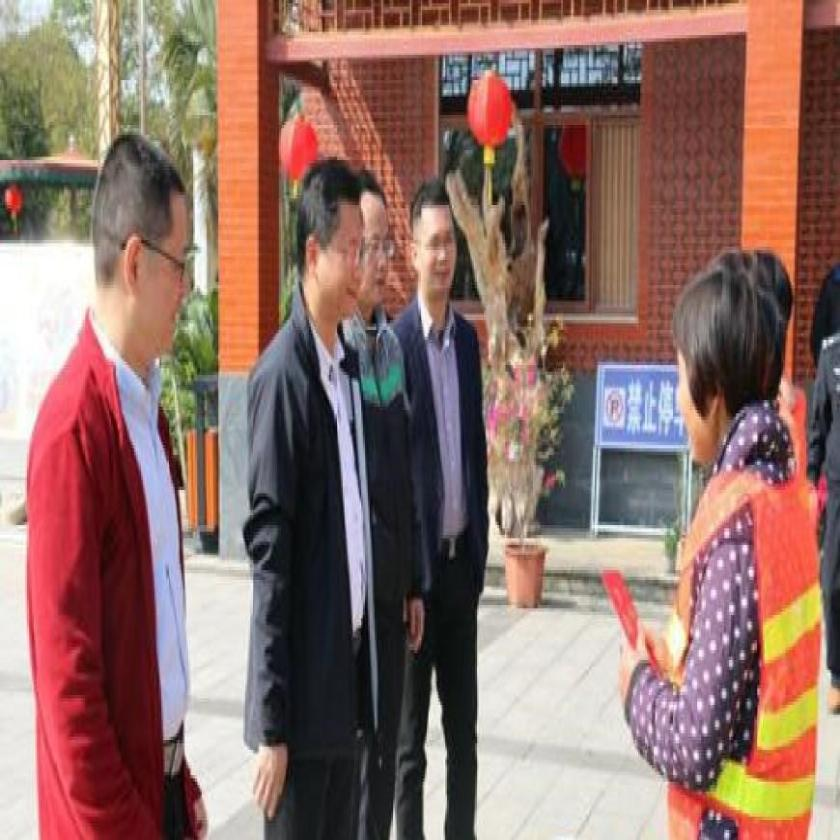Sin_casco: (666, 263, 783, 476), (96, 134, 194, 386), (292, 163, 368, 352), (406, 181, 463, 307), (350, 167, 393, 314)
